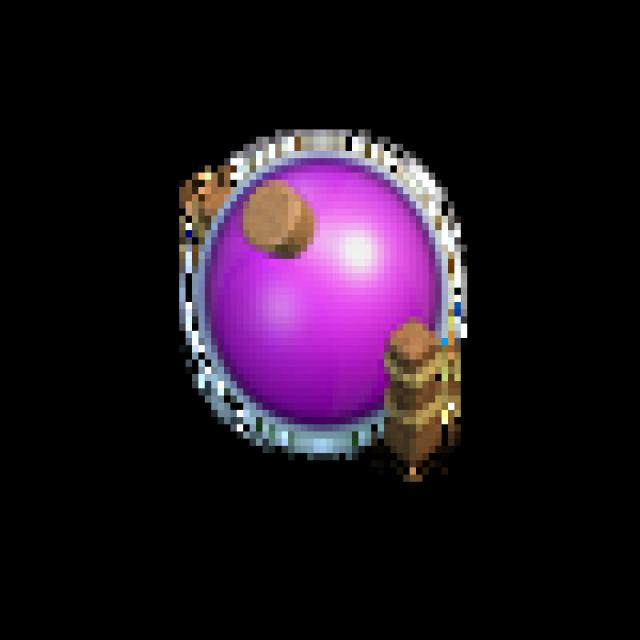elixir_storage: (171, 126, 478, 493)
